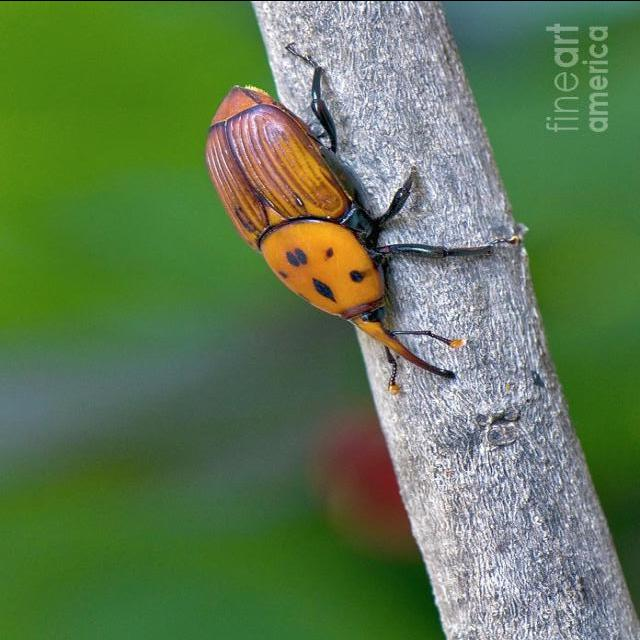Red-palm-weevil: (202, 80, 468, 395)
